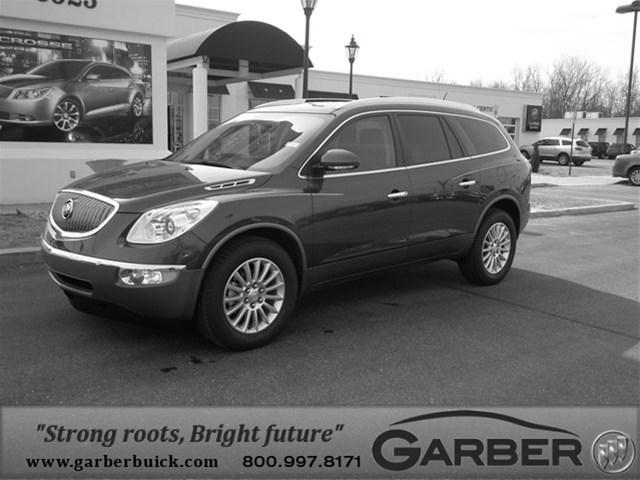car: (43, 101, 534, 350)
